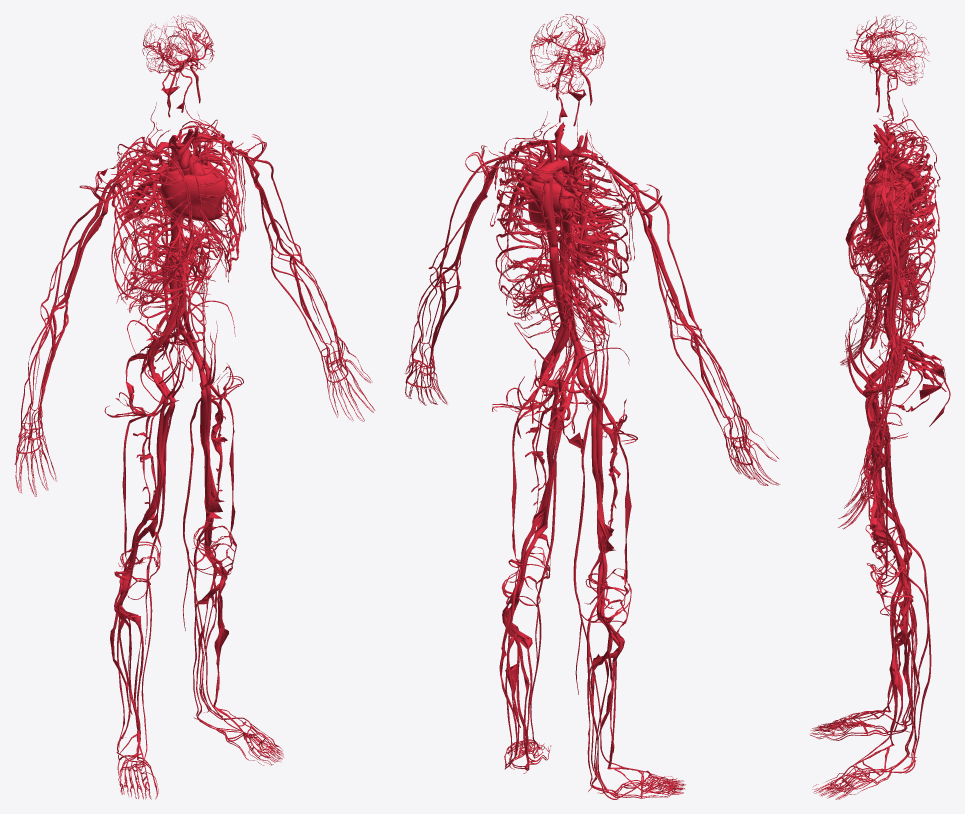
The model's file is cardiovascular.glb.
3 renders of one model, left to right at view 1: azimuth 30°, elevation 25°; view 2: azimuth 150°, elevation 25°; view 3: azimuth 270°, elevation 25°, orthographic. The views are drawn at different scales.
Parts seen in each view (by area): view 1: W_SOMA_pericardium, W_FJ1994, W_FJ1961, W_FJ1985, W_FJ2145, W_FJ2103, W_FJ2074, W_FJ1975, W_FJ2272, W_FJ2143; view 2: W_FJ1961, W_FJ1994, W_FJ1975, W_FJ3427, W_FJ1985, W_SOMA_pericardium, W_FJ2145, W_FJ2103, W_FJ2144, W_FJ2143, W_FJ2102, W_FJ2272; view 3: W_FJ1985, W_FJ1975, W_SOMA_pericardium, W_FJ2220, W_FJ2103, W_FJ2102, W_FJ2145, W_FJ2121, W_FJ2218, W_FJ1994, W_FJ2183, W_FJ2065 (+16 smaller).
Part boxes in pixels (bbox=[...]): W_SOMA_pericardium: bbox=[160, 164, 226, 221]; W_FJ1994: bbox=[112, 136, 191, 303]; W_FJ1961: bbox=[111, 141, 191, 304]; W_FJ1985: bbox=[181, 121, 241, 276]; W_FJ2145: bbox=[141, 403, 175, 761]; W_FJ2103: bbox=[182, 394, 244, 732]; W_FJ2074: bbox=[204, 374, 222, 513]; W_FJ1975: bbox=[176, 125, 241, 277]; W_FJ2272: bbox=[21, 172, 132, 427]; W_FJ2143: bbox=[144, 384, 168, 535]; W_FJ1961: bbox=[540, 172, 628, 324]; W_FJ1994: bbox=[559, 162, 628, 323]; W_FJ1975: bbox=[495, 159, 557, 297]; W_FJ3427: bbox=[529, 179, 565, 322]; W_FJ1985: bbox=[496, 144, 548, 296]; W_SOMA_pericardium: bbox=[528, 178, 585, 232]; W_FJ2145: bbox=[573, 411, 644, 771]; W_FJ2103: bbox=[530, 402, 564, 744]; W_FJ2144: bbox=[591, 405, 613, 551]; W_FJ2143: bbox=[593, 396, 613, 557]; W_FJ2102: bbox=[531, 394, 564, 533]; W_FJ2272: bbox=[627, 178, 743, 442]; W_FJ1985: bbox=[850, 151, 935, 321]; W_FJ1975: bbox=[851, 160, 935, 321]; W_SOMA_pericardium: bbox=[863, 177, 904, 241]; W_FJ2220: bbox=[873, 185, 899, 470]; W_FJ2103: bbox=[853, 412, 914, 765]; W_FJ2102: bbox=[865, 398, 890, 539]; W_FJ2145: bbox=[851, 399, 913, 718]; W_FJ2121: bbox=[891, 572, 931, 773]; W_FJ2218: bbox=[878, 238, 904, 453]; W_FJ1994: bbox=[851, 130, 934, 272]; W_FJ2183: bbox=[893, 616, 906, 732]; W_FJ2065: bbox=[889, 616, 906, 745].
Size of the model in its own units: 0.8041 by 1.59 by 0.272.
